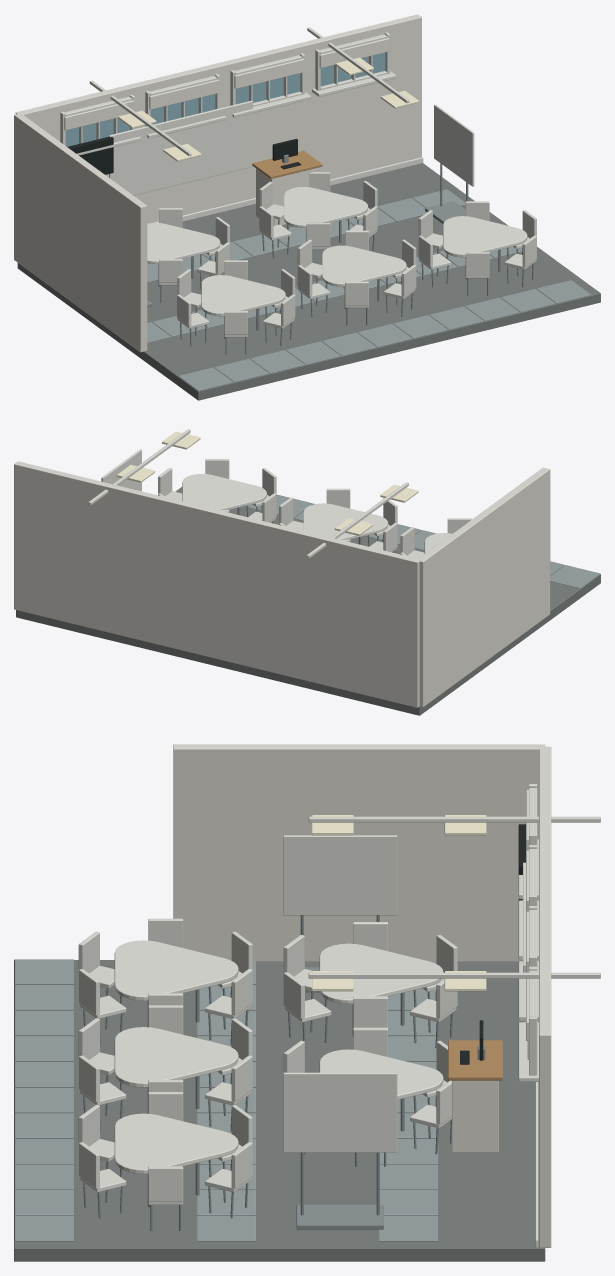
File: pan-interior-a23abb17e8c0.glb
The picture shows the model from 3 angles, top to bottom: view 1: azimuth 30°, elevation 25°; view 2: azimuth 150°, elevation 25°; view 3: azimuth 270°, elevation 25°; orthographic projection. The views are drawn at different scales.
Visible parts, largest first — view 1: PAN.001; view 2: PAN.001; view 3: PAN.001.
Part boxes in pixels (bbox=[...]): PAN.001: bbox=[14, 14, 600, 400]; PAN.001: bbox=[14, 429, 600, 715]; PAN.001: bbox=[14, 744, 600, 1261].
Size of the model in its own units: 9.08 by 3.3 by 7.73.
